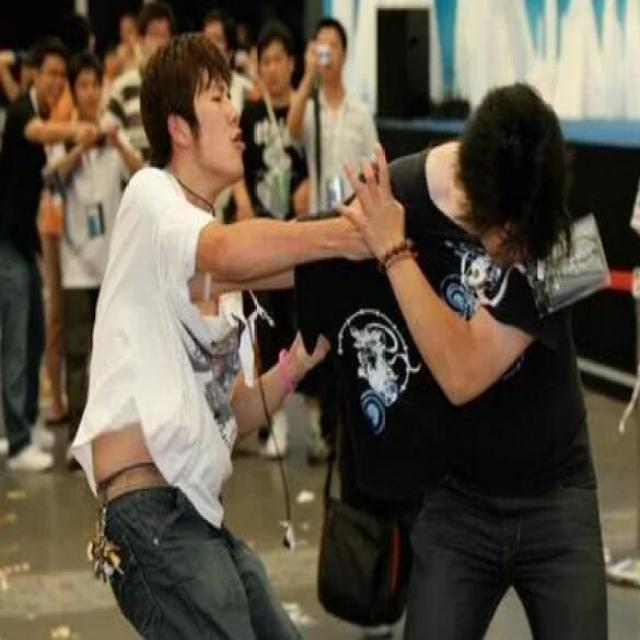fight: (128, 34, 589, 454)
